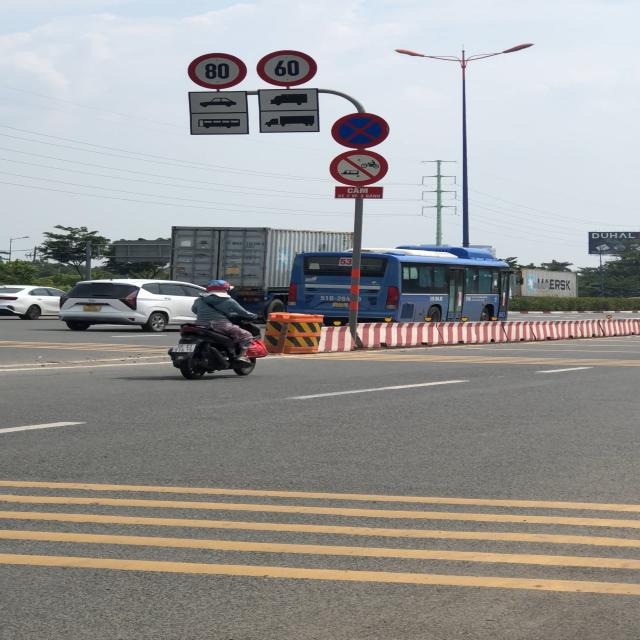Bien bao cam dung xe va do xe: (328, 111, 392, 150)
Bien bao toc do toi da cho phep: (252, 49, 326, 91), (186, 51, 247, 90)
